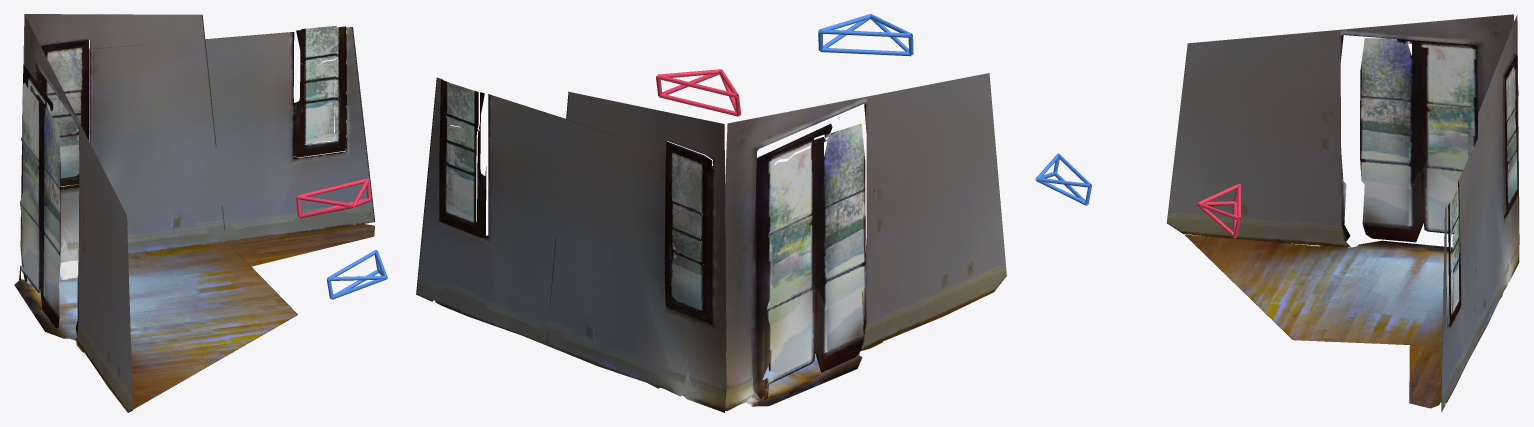
The picture shows the model from 3 angles, left to right: view 1: azimuth 30°, elevation 25°; view 2: azimuth 150°, elevation 25°; view 3: azimuth 270°, elevation 25°; orthographic projection. The views are drawn at different scales.
Visible parts, largest first — view 1: Node; view 2: Node; view 3: Node.
Part boxes in pixels (<box>): Node: <box>14,14,387,412</box>; Node: <box>416,14,1006,412</box>; Node: <box>1035,14,1519,411</box>.
Bounding box in the file's own units: 4.39 × 2.84 × 4.92.
16 materials, 14 textured.
